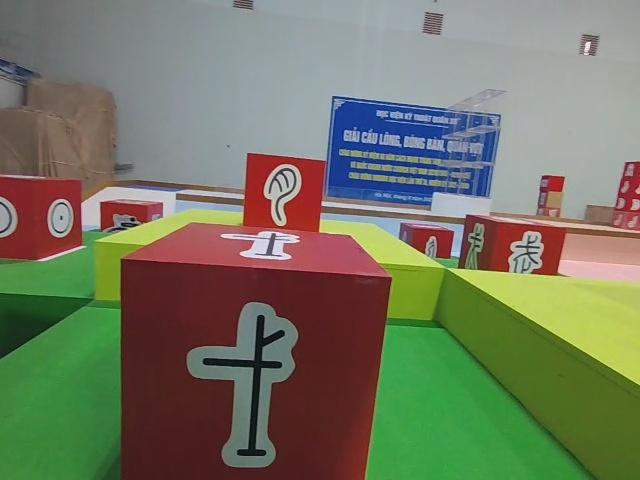R1: (98, 197, 165, 239)
R2 Fake: (458, 212, 569, 281), (241, 150, 329, 235)
R2 Real: (118, 218, 394, 480), (0, 173, 84, 261)
